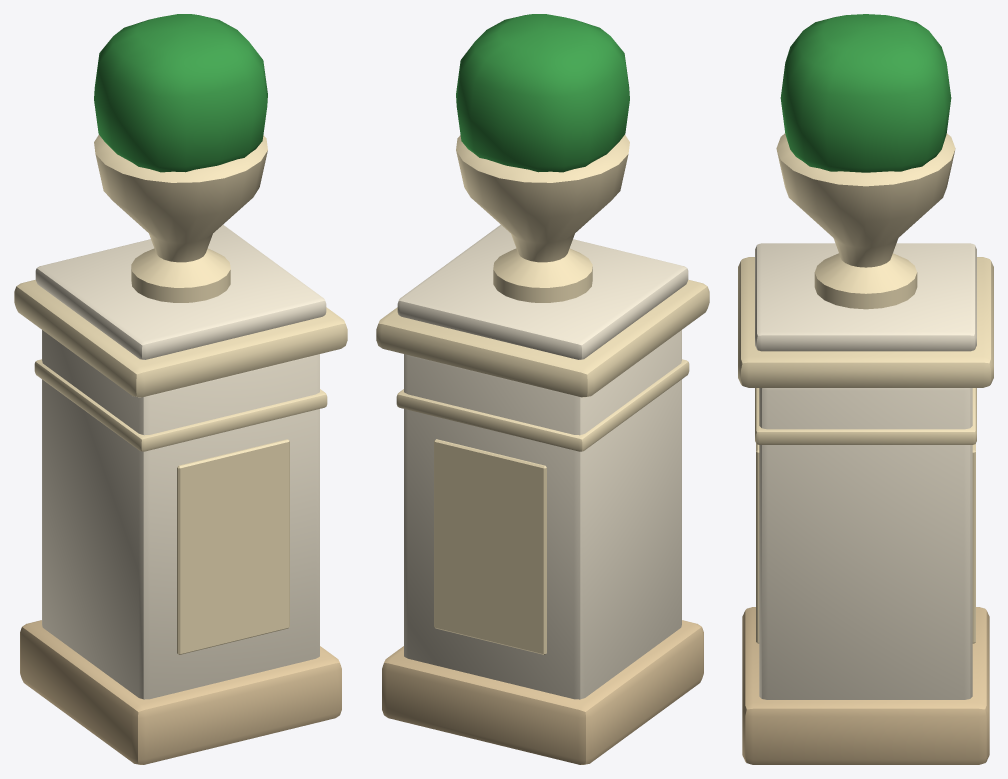
Rendered from balaustrada_canto.glb.
3 renders of one model, left to right at view 1: azimuth 30°, elevation 25°; view 2: azimuth 150°, elevation 25°; view 3: azimuth 270°, elevation 25°, orthographic. The views are drawn at different scales.
Visible parts, largest first — view 1: balaustrada_canto; view 2: balaustrada_canto; view 3: balaustrada_canto.
Part boxes in pixels (x1,y1,x2,y2): balaustrada_canto: (14,14,347,764); balaustrada_canto: (376,14,709,764); balaustrada_canto: (738,14,993,764).
Size of the model in its own units: 0.6 by 1.78 by 0.6.
1 material, 1 textured.
